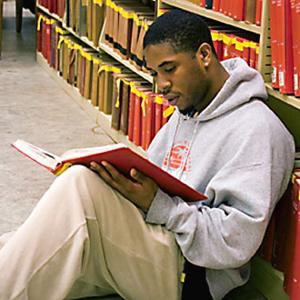person: (1, 10, 296, 300)
